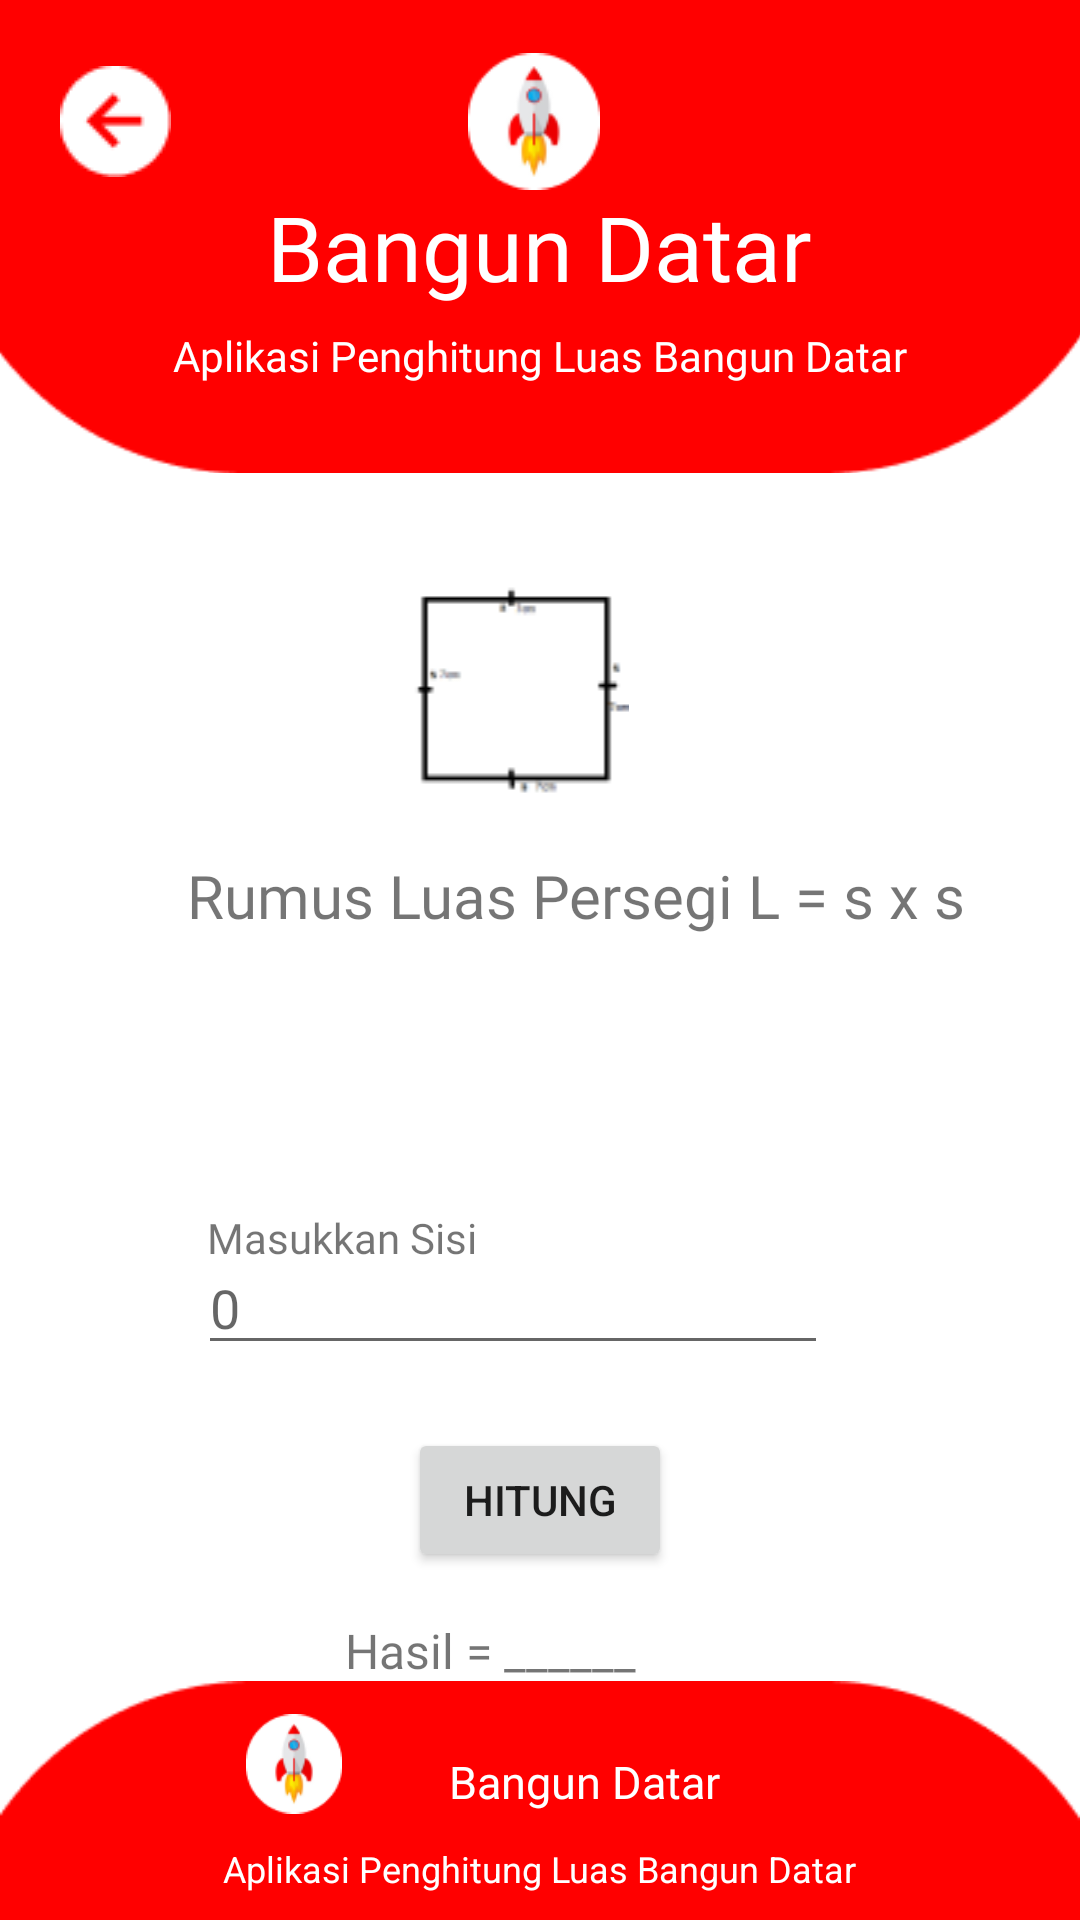

Screen size 1080 × 1920. Icon name, then its box in pixels as (x1, y1, x2, y2):
back: (60, 66, 171, 177)
roket: (468, 53, 600, 190), (246, 1714, 342, 1814)
